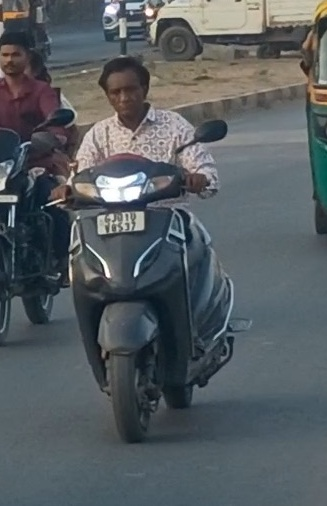BikeWithRider: (51, 50, 258, 448), (0, 26, 87, 350)
NoHelmet: (91, 52, 159, 121), (0, 29, 38, 83)
